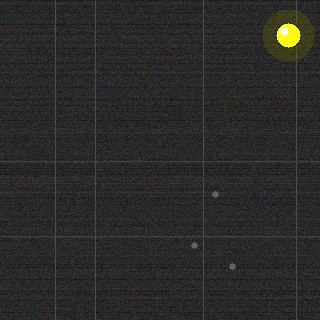yellow_warning: (274, 21, 302, 49)
